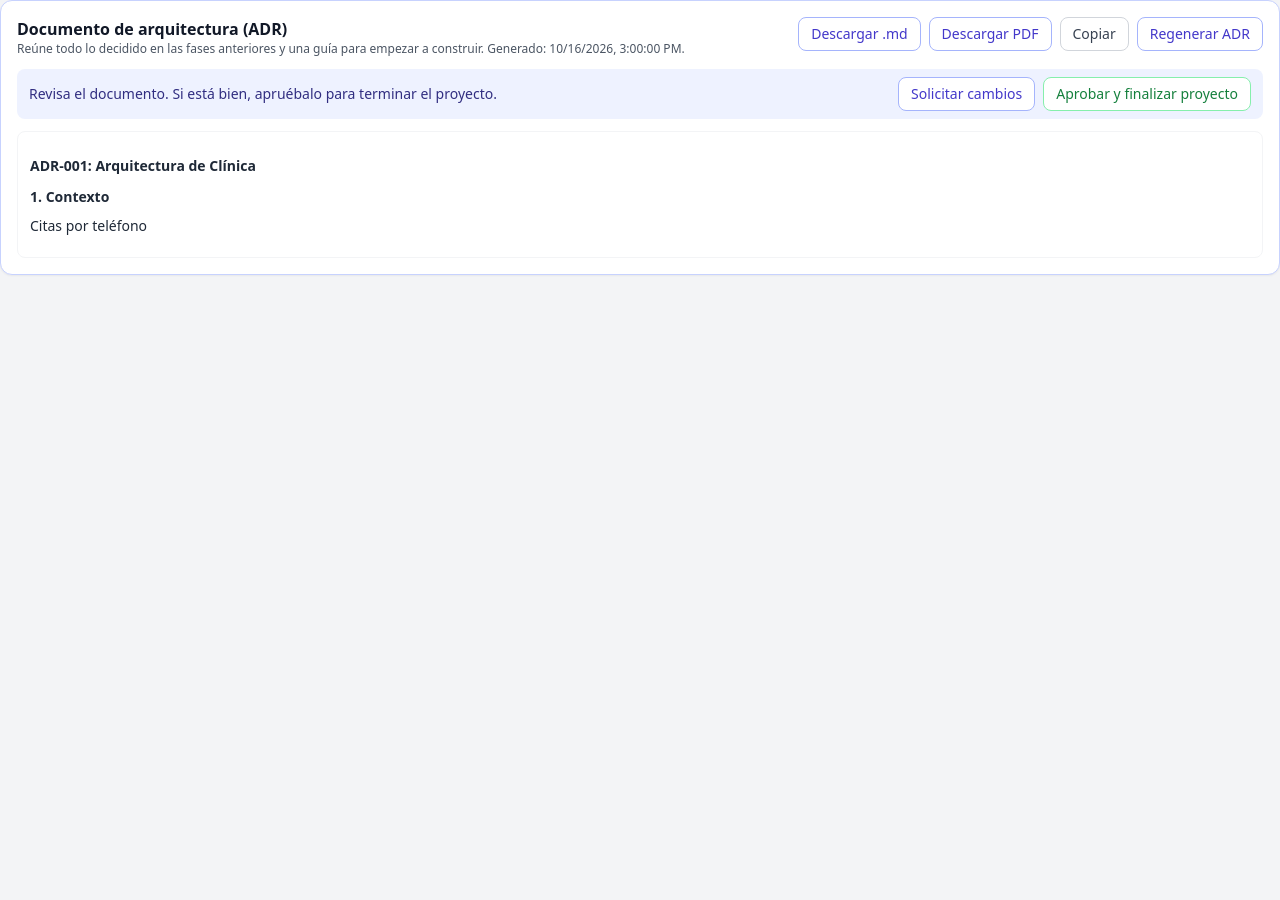
Test: AdrPanel › aprobar termina el proyecto, felicita y avisa a la página
Click the button with test id "adr-approve".
click(1147, 94)  # box [1043,77,1251,111]
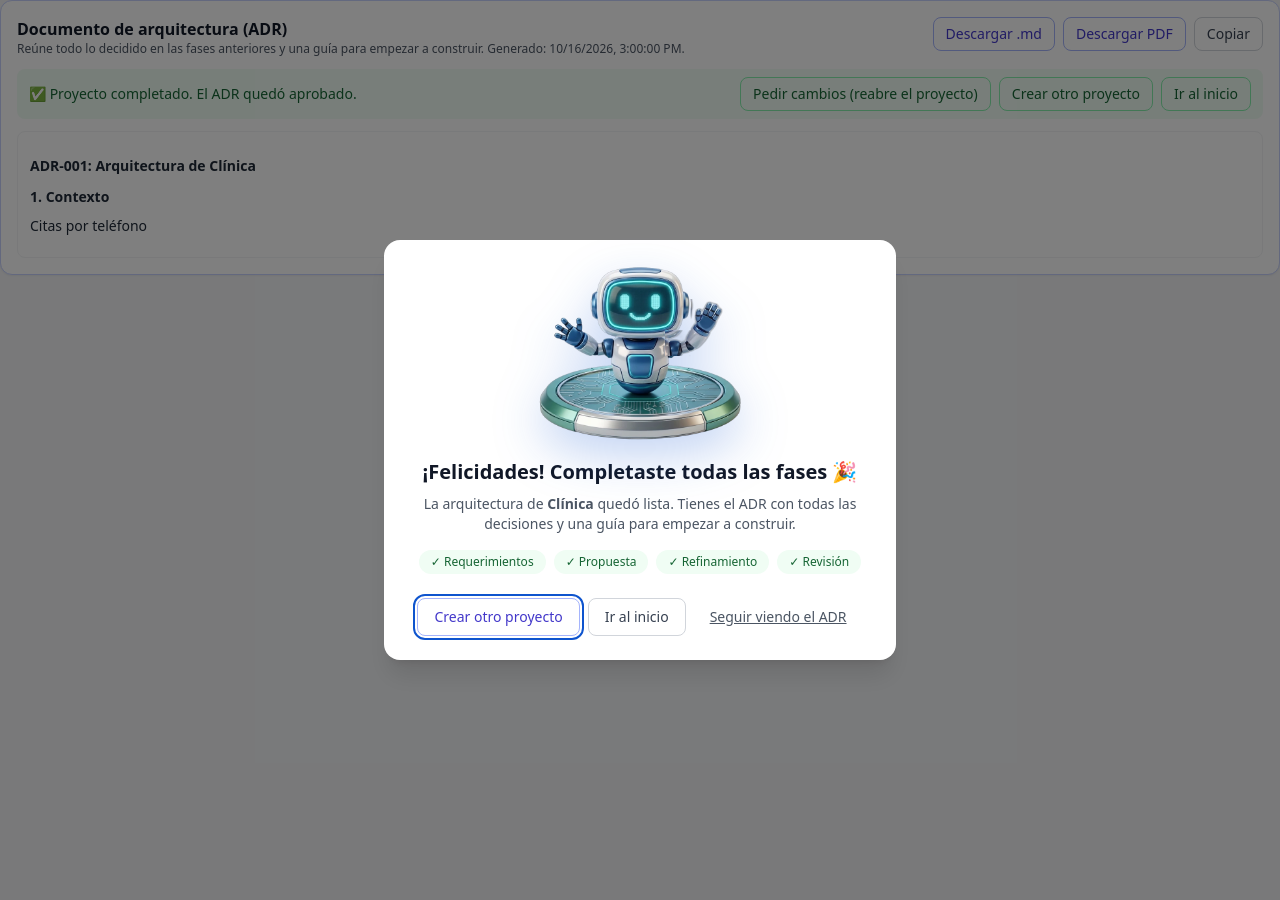
expect the dialog with test id "project-completed" shows "Completaste todas las fases": met, box [422,458,857,485]
expect the message with test id "adr-completed" is shown: met, box [17,69,1263,119]
expect the button with test id "adr-approve" is gone: met
